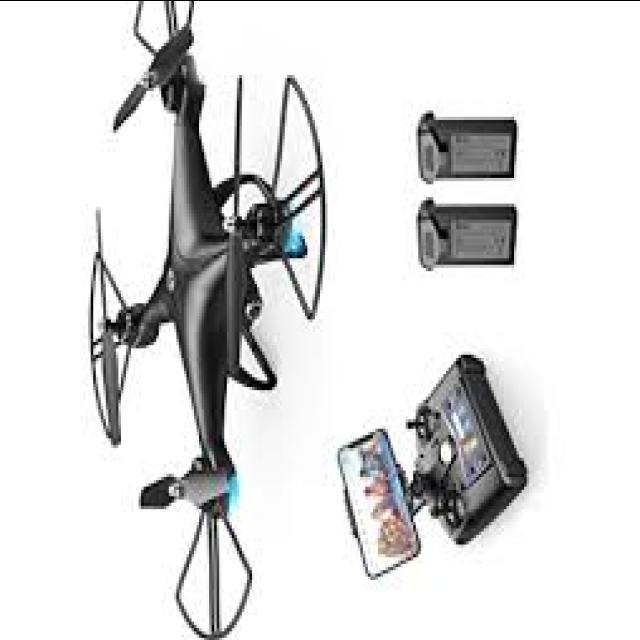drone: (52, 0, 340, 640)
